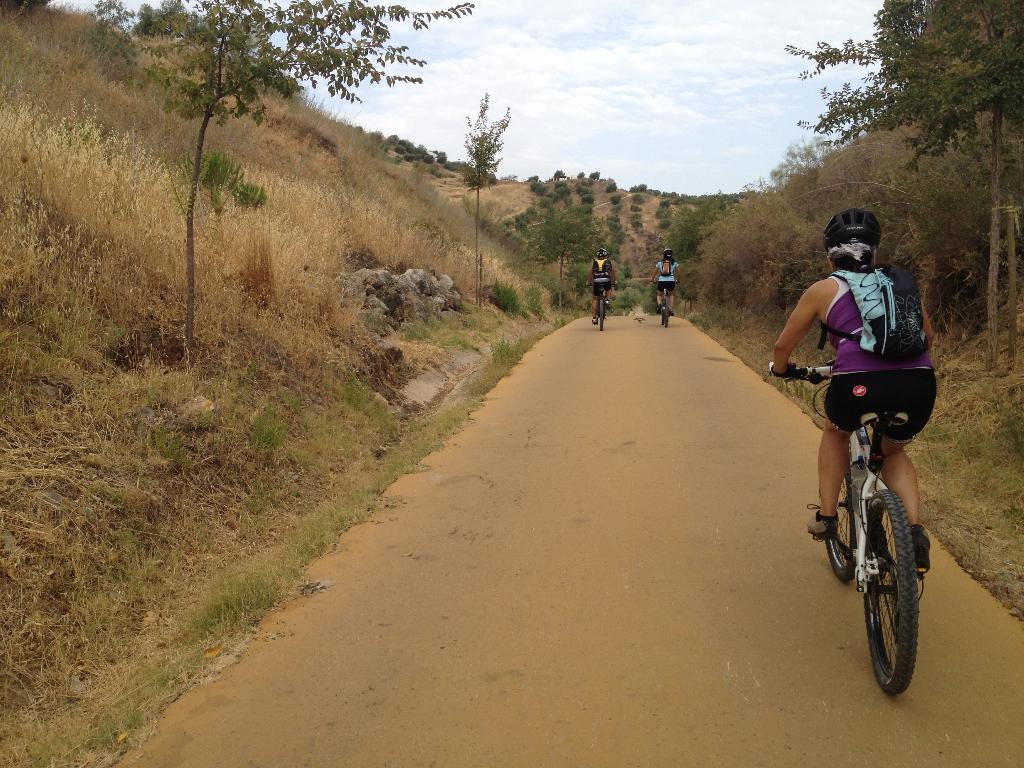Bike_away: (763, 356, 938, 703)
